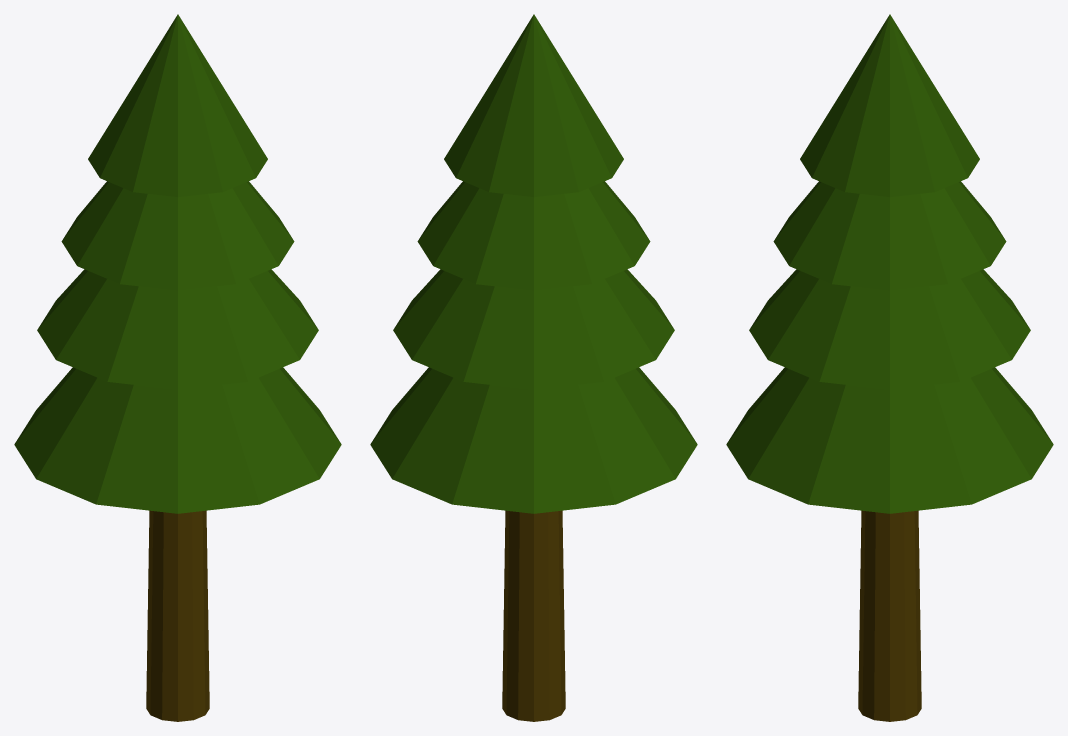
File: treeupdate.fbx
3 renders of one model, left to right at view 1: azimuth 30°, elevation 25°; view 2: azimuth 150°, elevation 25°; view 3: azimuth 270°, elevation 25°, orthographic.
Parts seen in each view (by area): view 1: pCone5; view 2: pCone5; view 3: pCone5.
Part boxes in pixels (<box>): pCone5: <box>14,14,341,721</box>; pCone5: <box>370,14,697,721</box>; pCone5: <box>726,14,1053,721</box>.
Bounding box in the file's own units: 233 × 545 × 233.
